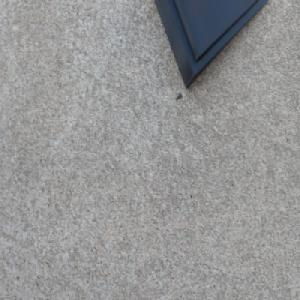PlasticPart: (151, 0, 266, 90)
